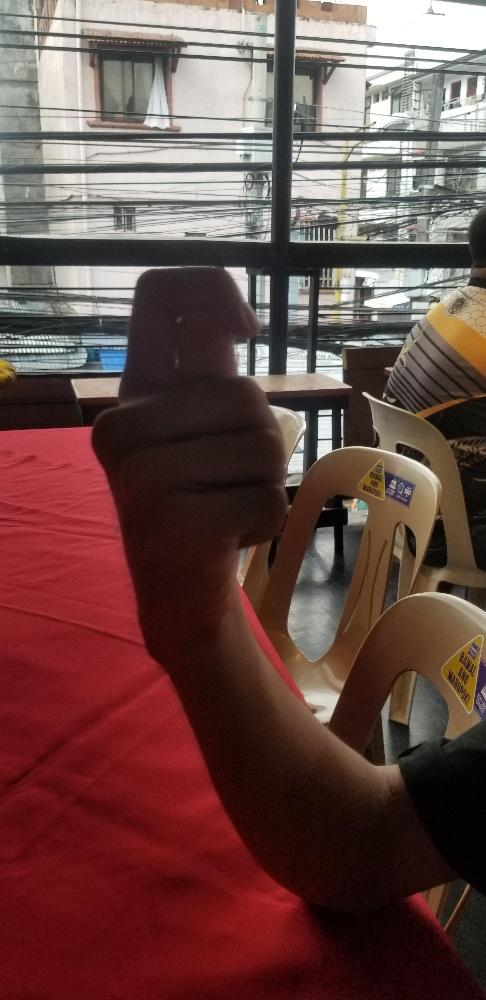t: (86, 259, 290, 644)
